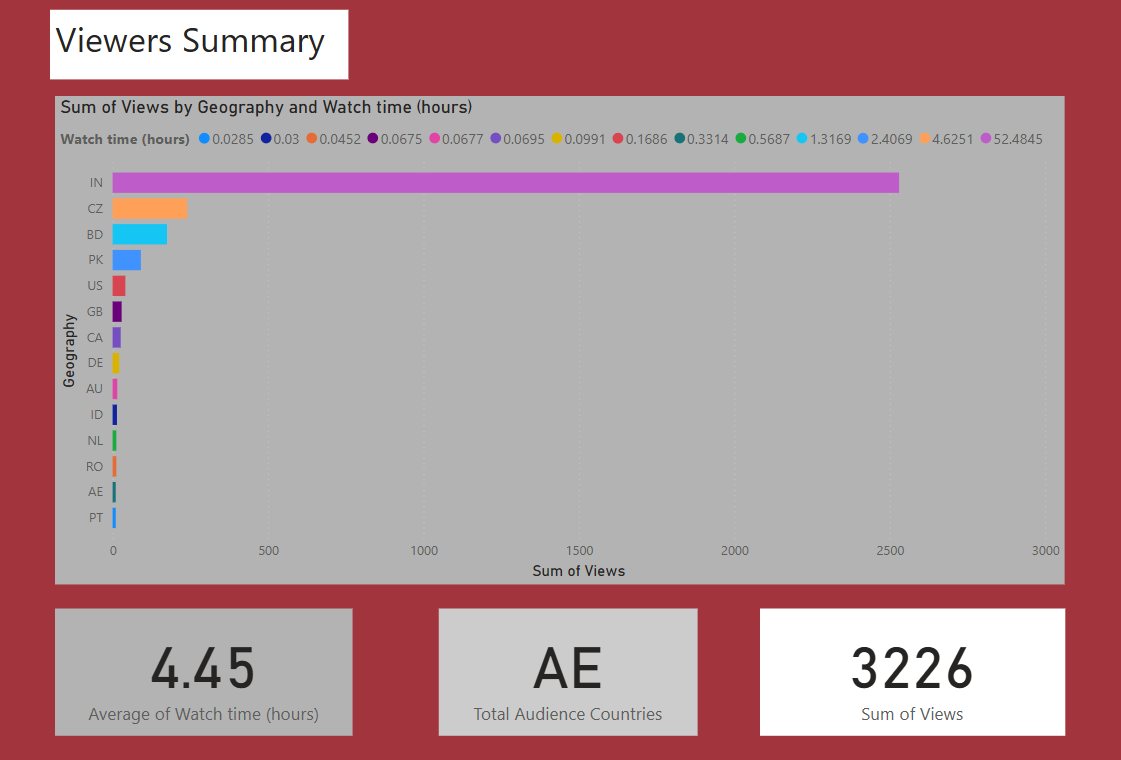

Layout of this report page (visuals, bound fields, positions):
{"tool":"powerbi","page":{"name":"Geography","canvas":[1280,720],"ordinal":1},"visuals":[{"type":"barChart","fields":{"Category":["Table data-Geography.Geography"],"Y":["Sum(Table data-Geography.Views)"],"Series":["Table data-Geography.Watch time (hours)"]},"box":[120.9,97.7,939.5,454.7],"z":0},{"type":"card","fields":{"Values":["Avg(Table data-Geography.Watch time (hours))"]},"box":[120.9,574.4,276.7,118.6],"z":1000},{"type":"card","fields":{"Values":["Min(Table data-Geography.Geography)"]},"box":[477.9,574.4,240.7,118.6],"z":2000},{"type":"card","fields":{"Values":["Sum(Table data-Geography.Views)"]},"box":[776.7,574.4,283.7,118.6],"z":3000},{"type":"textbox","box":[116.3,17.4,277.9,65.1],"z":4000}]}

Visuals, with their boxes on the page's 1280x720 design canvas (x1, y1, x2, y2). These are canvas units, not pixel positions in the 1121x760 screenshot, which may show the page scaled, cropped or inside an application window:
barChart - Table data-Geography.Geography x Sum(Table data-Geography.Views): left=121, top=98, right=1060, bottom=552
card - Avg(Table data-Geography.Watch time (hours)): left=121, top=574, right=398, bottom=693
card - Min(Table data-Geography.Geography): left=478, top=574, right=719, bottom=693
card - Sum(Table data-Geography.Views): left=777, top=574, right=1060, bottom=693
textbox: left=116, top=17, right=394, bottom=82
